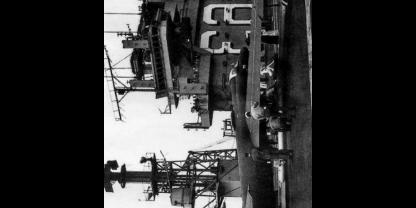Tu160: (171, 0, 279, 207)
